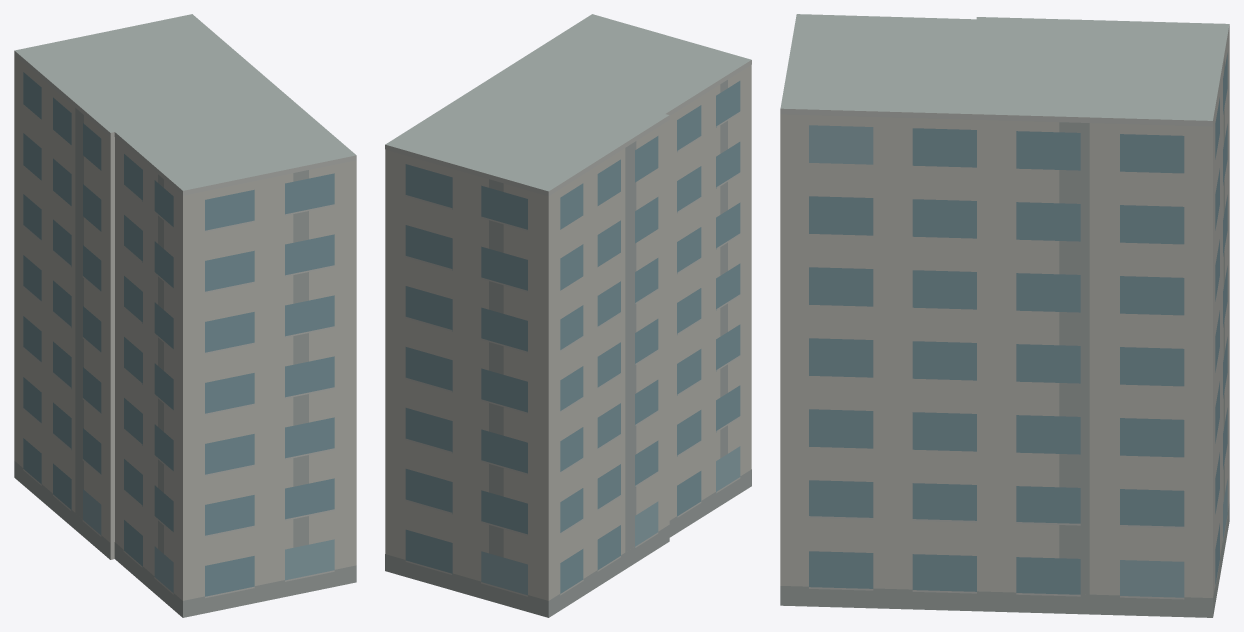
File: survey-upis-32878128.glb
The picture shows the model from 3 angles, left to right: view 1: azimuth 30°, elevation 25°; view 2: azimuth 150°, elevation 25°; view 3: azimuth 270°, elevation 25°; orthographic projection. The views are drawn at different scales.
Parts seen in each view (by area): view 1: survey-upis-32878128.tmp; view 2: survey-upis-32878128.tmp; view 3: survey-upis-32878128.tmp.
Boxes of the visible parts, box(x1,y1,x2,y2) form: survey-upis-32878128.tmp: box(14, 14, 356, 617); survey-upis-32878128.tmp: box(385, 14, 751, 617); survey-upis-32878128.tmp: box(780, 14, 1229, 617).
Size of the model in its own units: 9.98 by 21.6 by 17.7.
